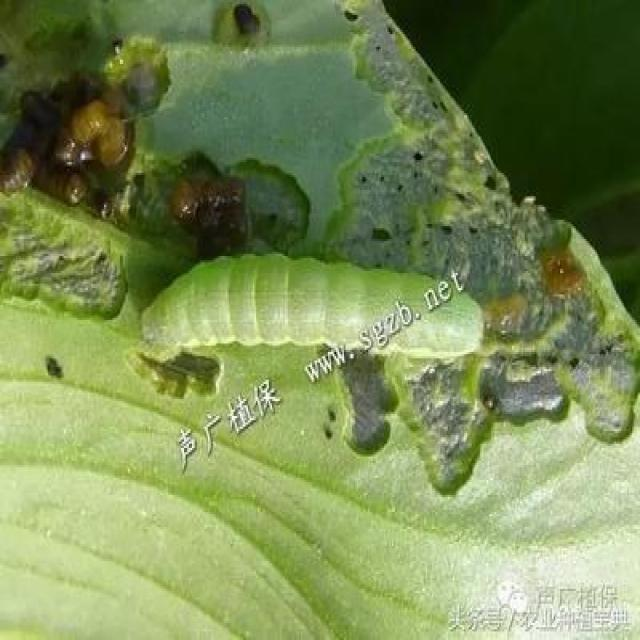BeetArmyWorm-Larva-: (118, 236, 502, 390)
